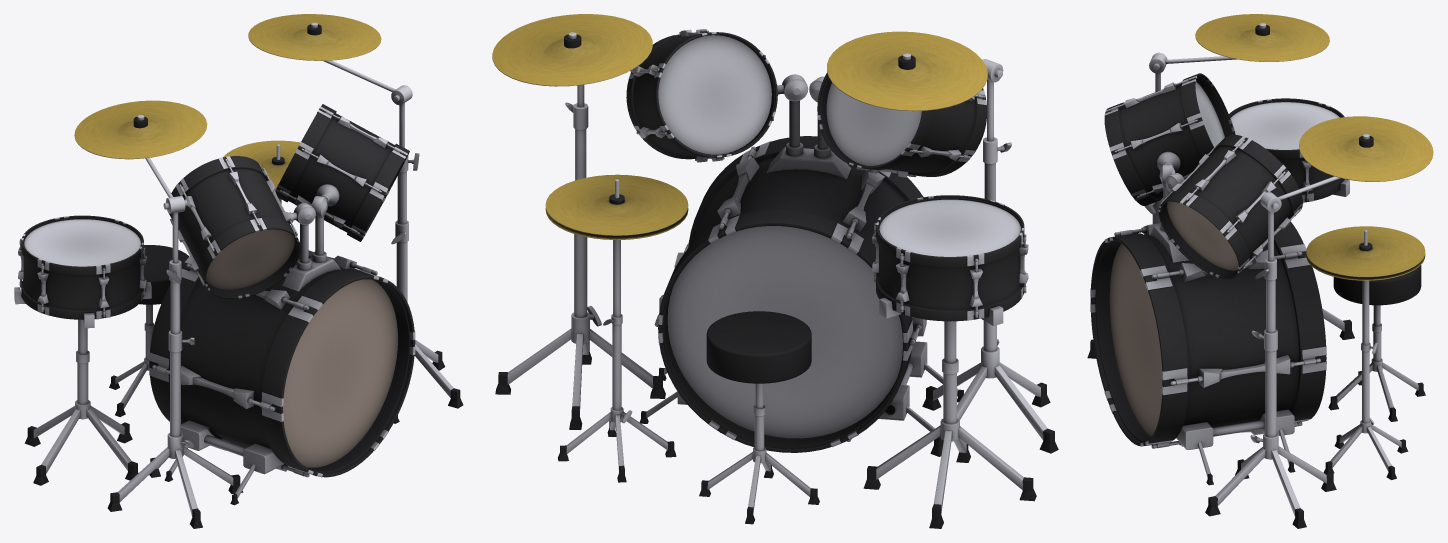
File: drums.obj
3 renders of one model, left to right at view 1: azimuth 30°, elevation 25°; view 2: azimuth 150°, elevation 25°; view 3: azimuth 270°, elevation 25°, orthographic. The views are drawn at different scales.
Visible parts, largest first — view 1: Box04; view 2: Box04; view 3: Box04.
Boxes of the visible parts, box(x1,y1,x2,y2) form: Box04: box(14, 14, 463, 528); Box04: box(492, 14, 1058, 528); Box04: box(1087, 14, 1433, 528).
Size of the model in its own units: 3.75 by 2.87 by 2.6.
Materials: 4 (4 with a texture image).
